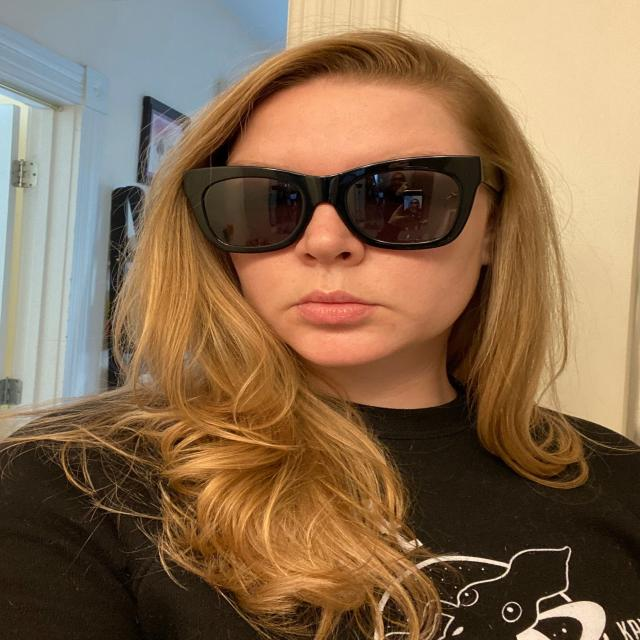2_gafas: (181, 153, 504, 254)
